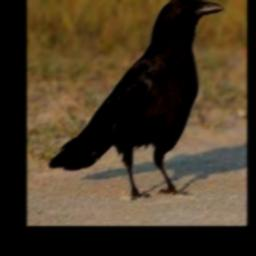Crow: (49, 0, 224, 199)
